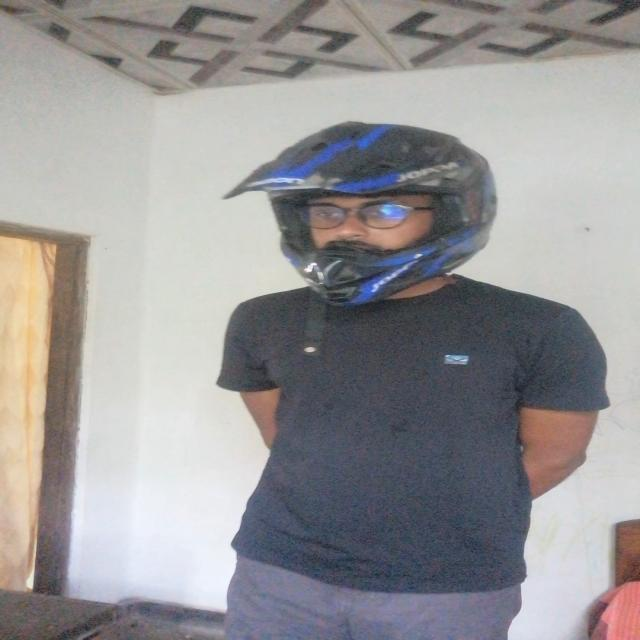Helmet_Wearer: (205, 110, 546, 316)
